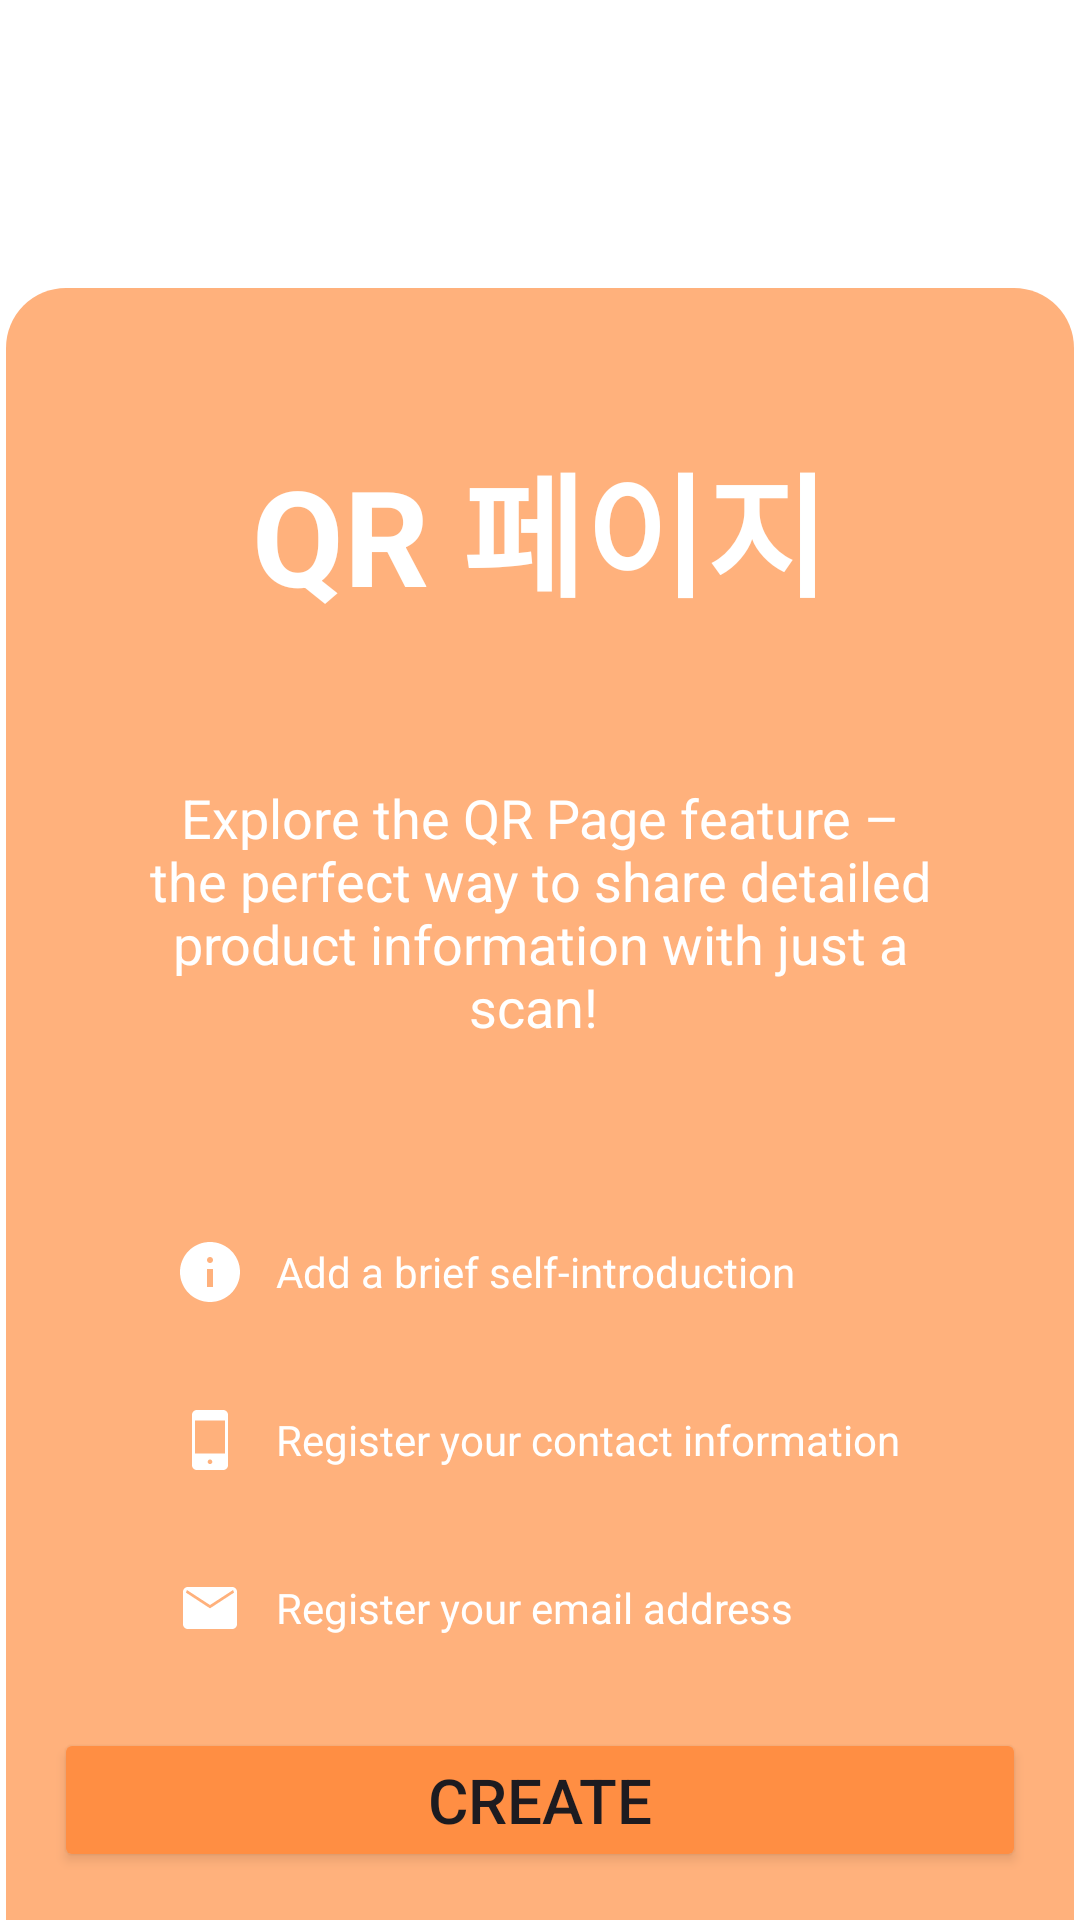

Screen size 1080 × 1920. Icon name, then its box in pixels as {"x1": x1, "y1": y1, "x2": x2, "y2": y2}:
phone: {"x1": 192, "y1": 1410, "x2": 228, "y2": 1470}
